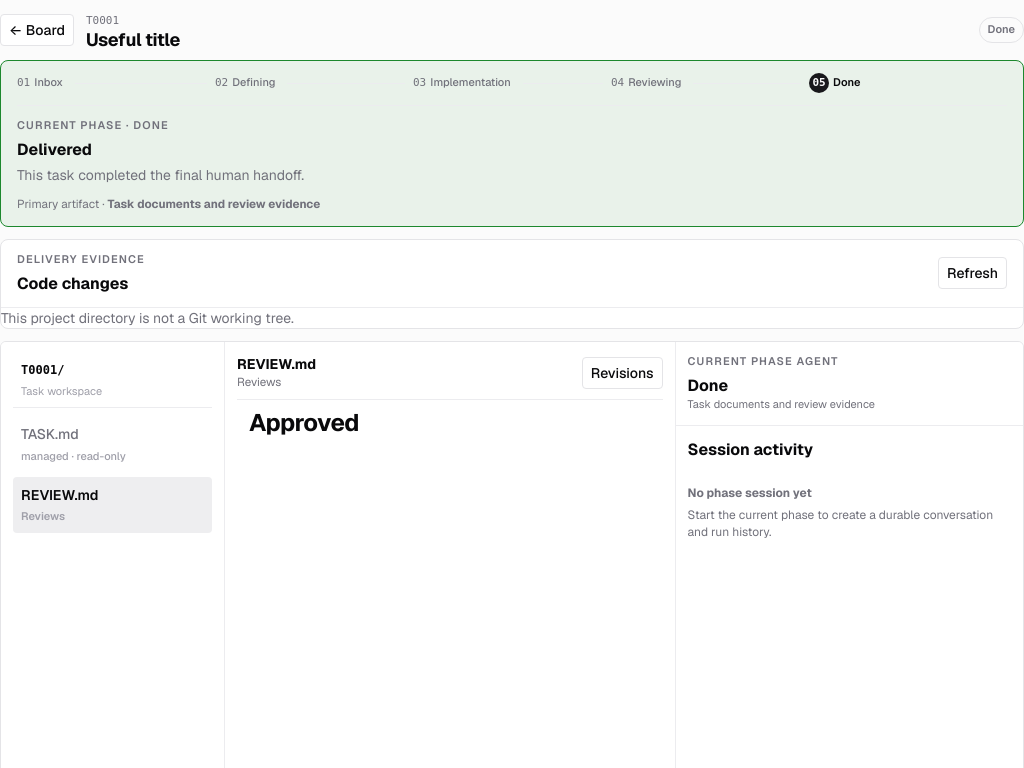
it: done is a read-only delivery context
Expected: the heading "Approved" is shown, [249,407,359,438]
Expected: the button "Edit" is not shown
Click the button "Revisions": (622, 373) [582,357,662,389]
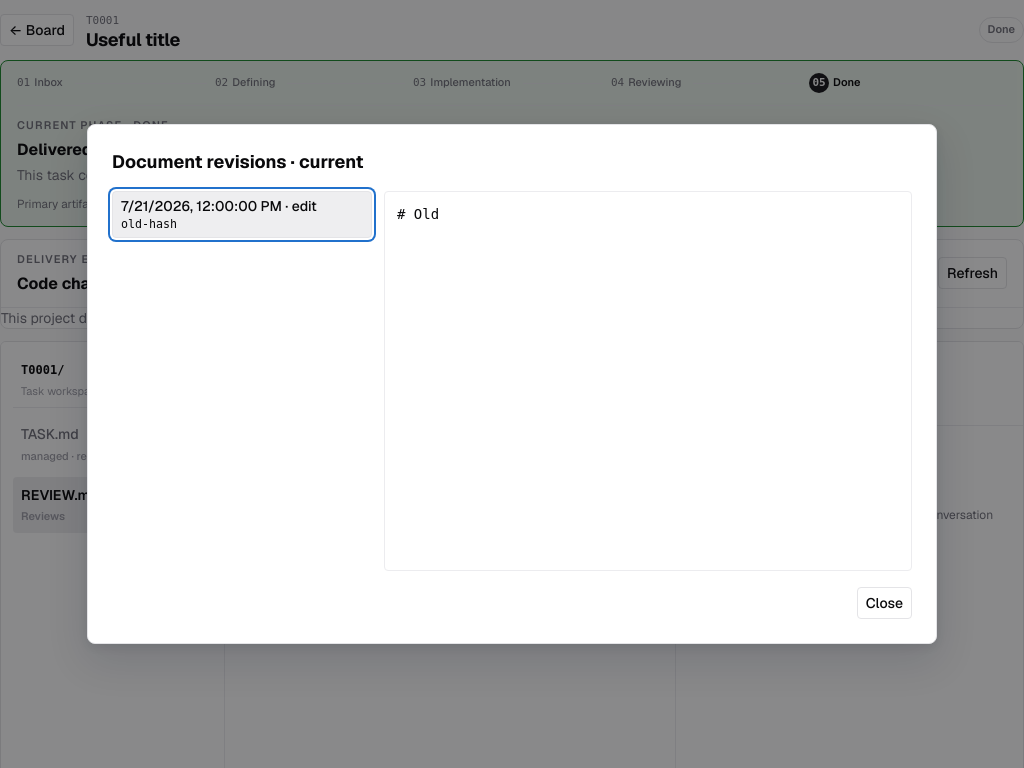
Now the dialog is shown, box [87,124,937,644]
